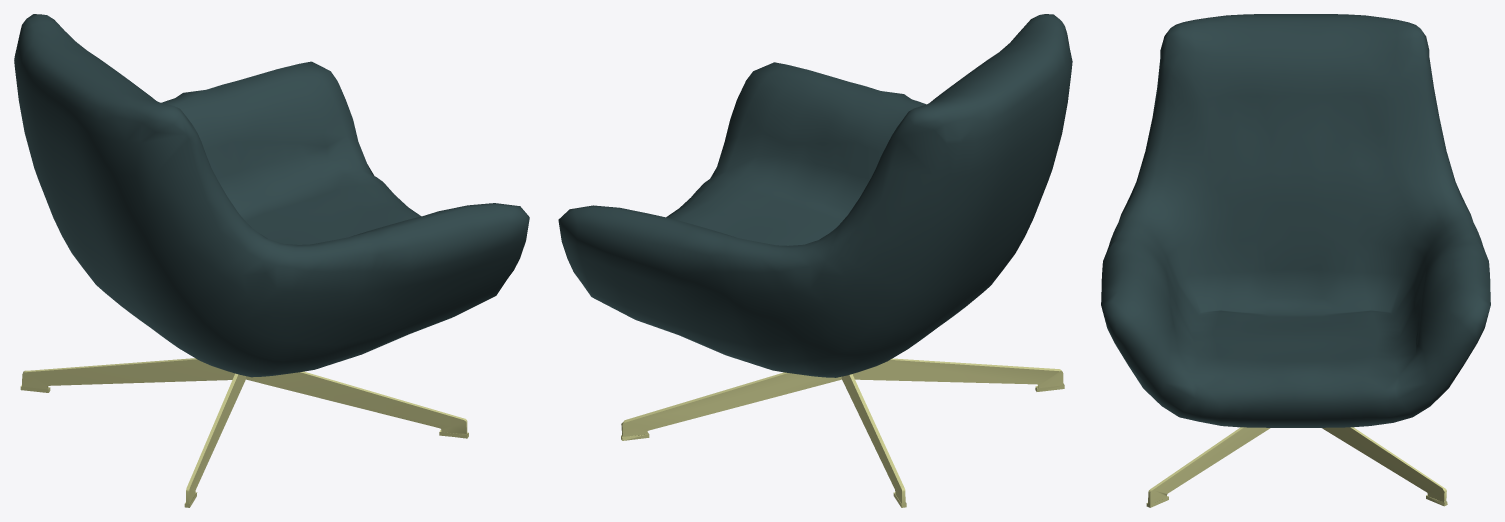
The model's file is cushy_Chair_low.fbx.
3 renders of one model, left to right at view 1: azimuth 30°, elevation 25°; view 2: azimuth 150°, elevation 25°; view 3: azimuth 270°, elevation 25°, orthographic. The views are drawn at different scales.
Visible parts, largest first — view 1: chair 24 2018 chair 24 2018 [637536].002; view 2: chair 24 2018 chair 24 2018 [637536].002; view 3: chair 24 2018 chair 24 2018 [637536].002.
Part boxes in pixels (bbox=[...]): chair 24 2018 chair 24 2018 [637536].002: bbox=[14, 14, 529, 507]; chair 24 2018 chair 24 2018 [637536].002: bbox=[558, 14, 1072, 507]; chair 24 2018 chair 24 2018 [637536].002: bbox=[1101, 14, 1490, 507].
Size of the model in its own units: 90.81 by 87.22 by 87.1.
